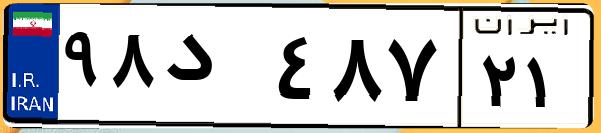1: (525, 38, 570, 115)
2: (475, 38, 525, 113)
4: (270, 28, 330, 110)
7: (385, 28, 445, 110)
8: (330, 28, 385, 110), (110, 28, 158, 98)
9: (57, 26, 110, 100)
د: (158, 20, 270, 120)
